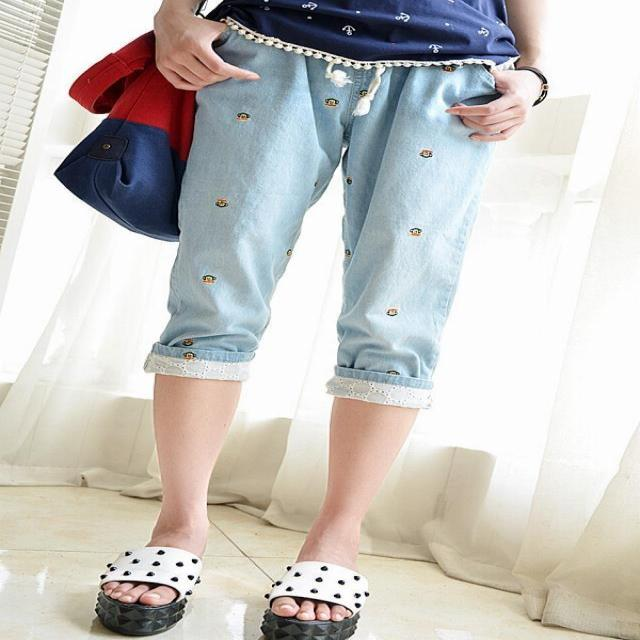trousers: (136, 5, 502, 465)
